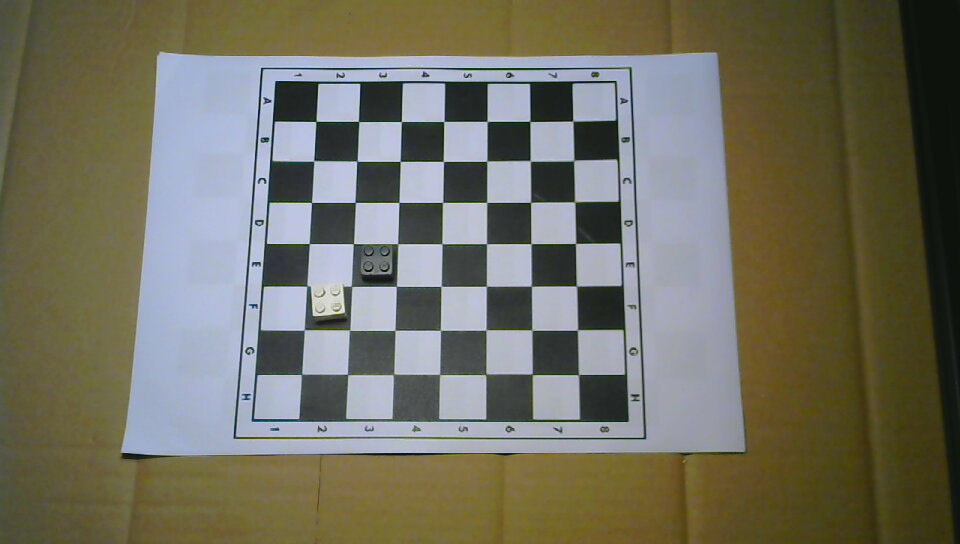bp: (359, 242, 398, 282)
wp: (308, 281, 348, 324)
